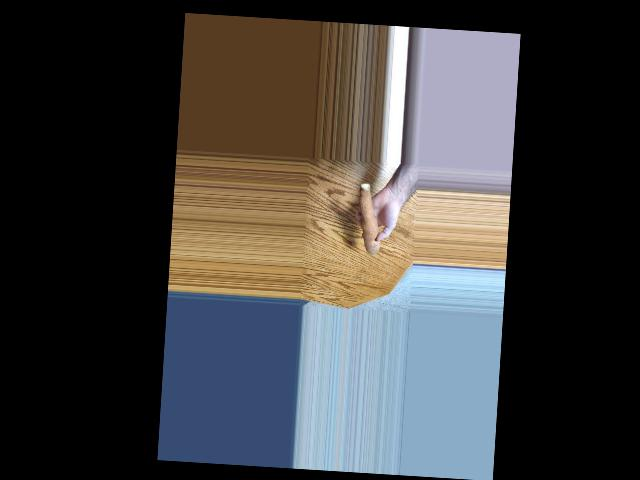sweet_potato: (355, 185, 380, 259)
